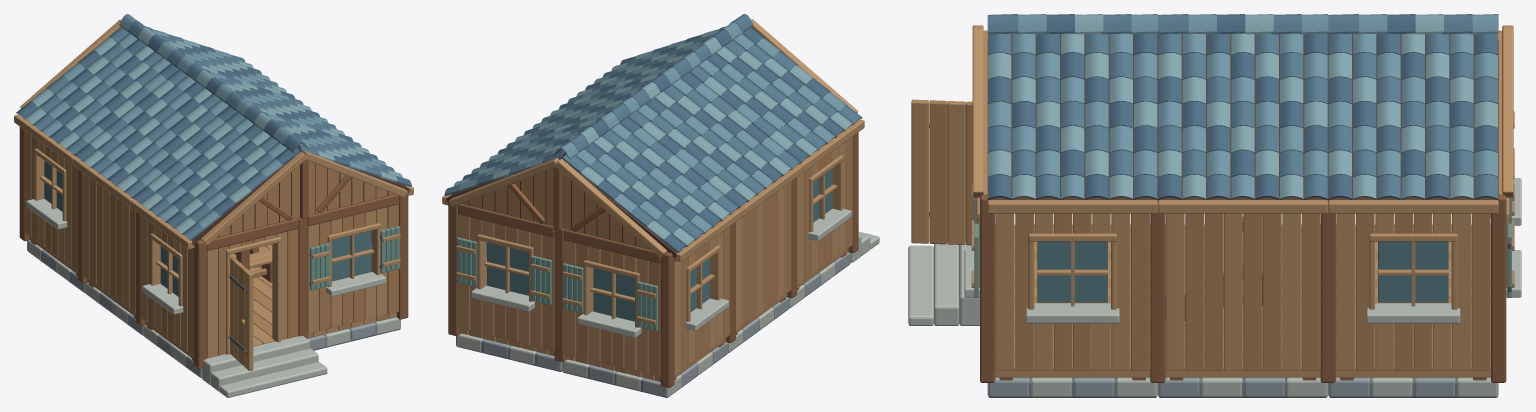
Rendered from longhouse_slateblue.glb.
3 renders of one model, left to right at view 1: azimuth 30°, elevation 25°; view 2: azimuth 150°, elevation 25°; view 3: azimuth 270°, elevation 25°, orthographic. The views are drawn at different scales.
Visible parts, largest first — view 1: roof_slope_slateblue_2m.002, roof_slope_slateblue_2m.006, roof_slope_slateblue_2m.004, wall_window_timber_2m.003, gable_timber_4m.001, wall_door_timber_2m.001, wall_window_timber_2m.001, wall_timber_2m.001, wall_window_timber_2m.002, porch_steps_stone_2m.002, roof_slope_slateblue_2m.001, door_oak.002 (+23 smaller); view 2: roof_slope_slateblue_2m.006, roof_slope_slateblue_2m.002, roof_slope_slateblue_2m.004, wall_window_timber_2m.006, wall_window_timber_2m.007, gable_timber_4m.002, wall_window_timber_2m.002, wall_timber_2m.001, wall_window_timber_2m.001, roof_slope_slateblue_2m.005, roof_slope_slateblue_2m.003, roof_slope_slateblue_2m.001 (+23 smaller); view 3: roof_slope_slateblue_2m.003, roof_slope_slateblue_2m.001, roof_slope_slateblue_2m.005, wall_timber_2m.002, wall_window_timber_2m.005, wall_window_timber_2m.004, door_oak.002, porch_steps_stone_2m.002, roof_ridge_slateblue_2m.001, roof_ridge_slateblue_2m.002, roof_ridge_slateblue_2m.003, foundation_stone_2m.008 (+15 smaller).
Boxes of the visible parts, <box> form: roof_slope_slateblue_2m.002: <box>130,112,300,249</box>; roof_slope_slateblue_2m.006: <box>14,27,179,164</box>; roof_slope_slateblue_2m.004: <box>72,69,237,206</box>; wall_window_timber_2m.003: <box>307,204,398,333</box>; gable_timber_4m.001: <box>201,150,407,245</box>; wall_door_timber_2m.001: <box>207,229,298,358</box>; wall_window_timber_2m.001: <box>141,216,193,356</box>; wall_timber_2m.001: <box>83,173,135,313</box>; wall_window_timber_2m.002: <box>25,131,77,271</box>; porch_steps_stone_2m.002: <box>202,336,327,397</box>; roof_slope_slateblue_2m.001: <box>261,111,413,195</box>; door_oak.002: <box>228,255,253,370</box>; roof_slope_slateblue_2m.006: <box>562,117,741,261</box>; roof_slope_slateblue_2m.002: <box>690,27,864,172</box>; roof_slope_slateblue_2m.004: <box>629,72,803,216</box>; wall_window_timber_2m.006: <box>564,240,660,376</box>; wall_window_timber_2m.007: <box>458,214,554,350</box>; gable_timber_4m.002: <box>449,158,667,257</box>; wall_window_timber_2m.002: <box>674,226,730,374</box>; wall_timber_2m.001: <box>736,181,791,330</box>; wall_window_timber_2m.001: <box>797,136,852,285</box>; roof_slope_slateblue_2m.005: <box>442,116,602,205</box>; roof_slope_slateblue_2m.003: <box>506,71,664,147</box>; roof_slope_slateblue_2m.001: <box>567,26,725,102</box>; roof_slope_slateblue_2m.003: <box>1158,33,1328,213</box>; roof_slope_slateblue_2m.001: <box>987,33,1157,213</box>; roof_slope_slateblue_2m.005: <box>1328,33,1498,213</box>; wall_timber_2m.002: <box>1166,213,1320,370</box>; wall_window_timber_2m.005: <box>1336,213,1490,370</box>; wall_window_timber_2m.004: <box>995,213,1149,370</box>; door_oak.002: <box>911,99,974,245</box>; porch_steps_stone_2m.002: <box>908,242,979,325</box>; roof_ridge_slateblue_2m.001: <box>987,14,1157,34</box>; roof_ridge_slateblue_2m.002: <box>1158,14,1328,34</box>; roof_ridge_slateblue_2m.003: <box>1328,14,1498,34</box>; foundation_stone_2m.008: <box>987,377,1157,397</box>.
Size of the model in its own units: 4.54 by 4.05 by 7.2.
